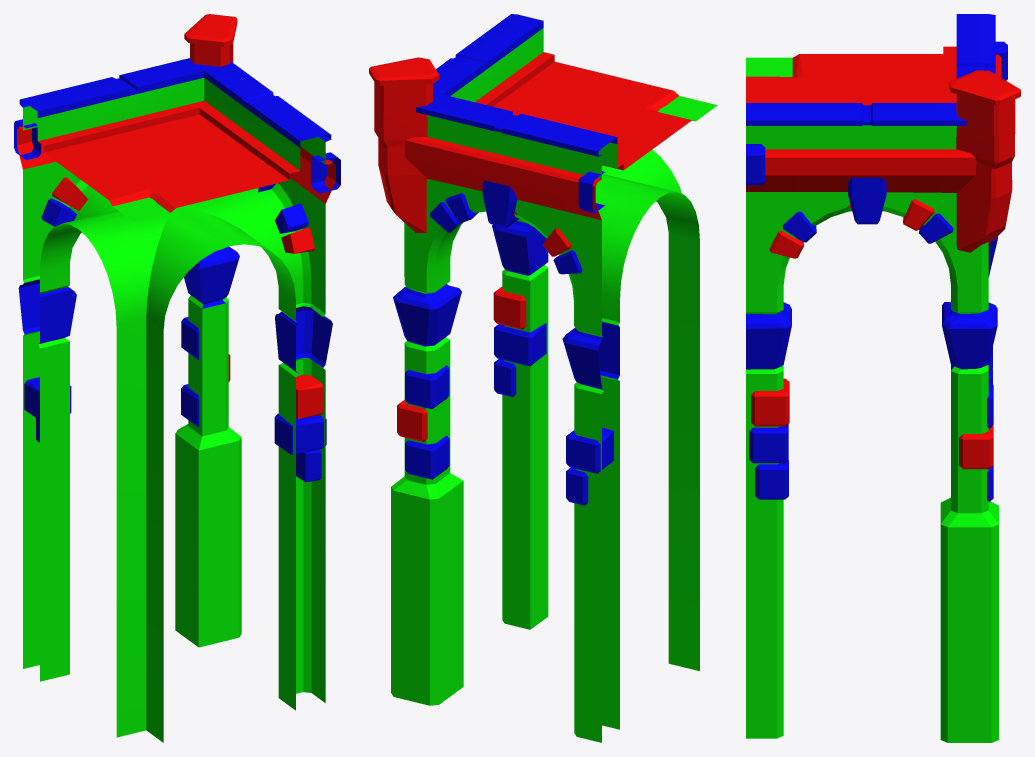
The model's file is dungeon_base_corner.fbx.
3 renders of one model, left to right at view 1: azimuth 30°, elevation 25°; view 2: azimuth 150°, elevation 25°; view 3: azimuth 270°, elevation 25°, orthographic. The views are drawn at different scales.
Visible parts, largest first — view 1: dungeon_base_corner; view 2: dungeon_base_corner; view 3: dungeon_base_corner.
Part boxes in pixels (x1,y1,x2,y2): dungeon_base_corner: (14, 14, 340, 742); dungeon_base_corner: (369, 14, 717, 742); dungeon_base_corner: (746, 14, 1020, 742).
Bounding box in the file's own units: 170 × 170 × 445.
